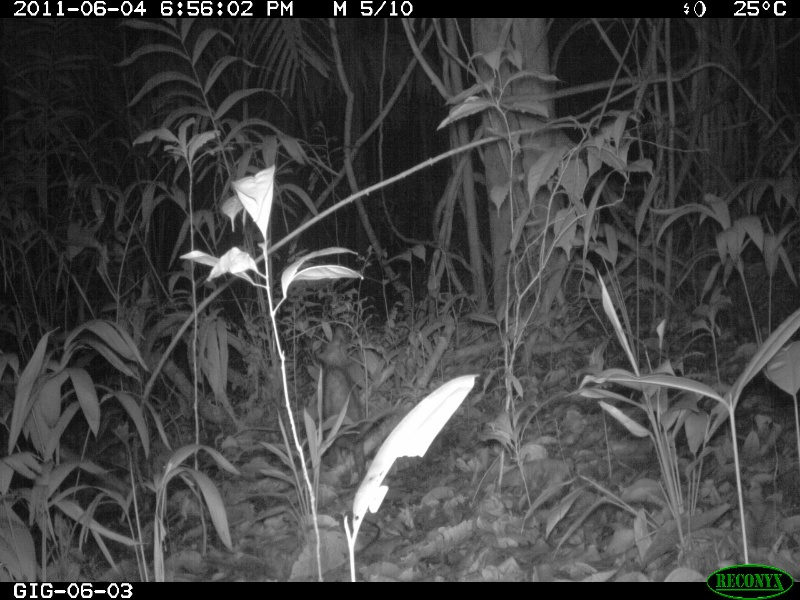opossum: (321, 346, 371, 482)
